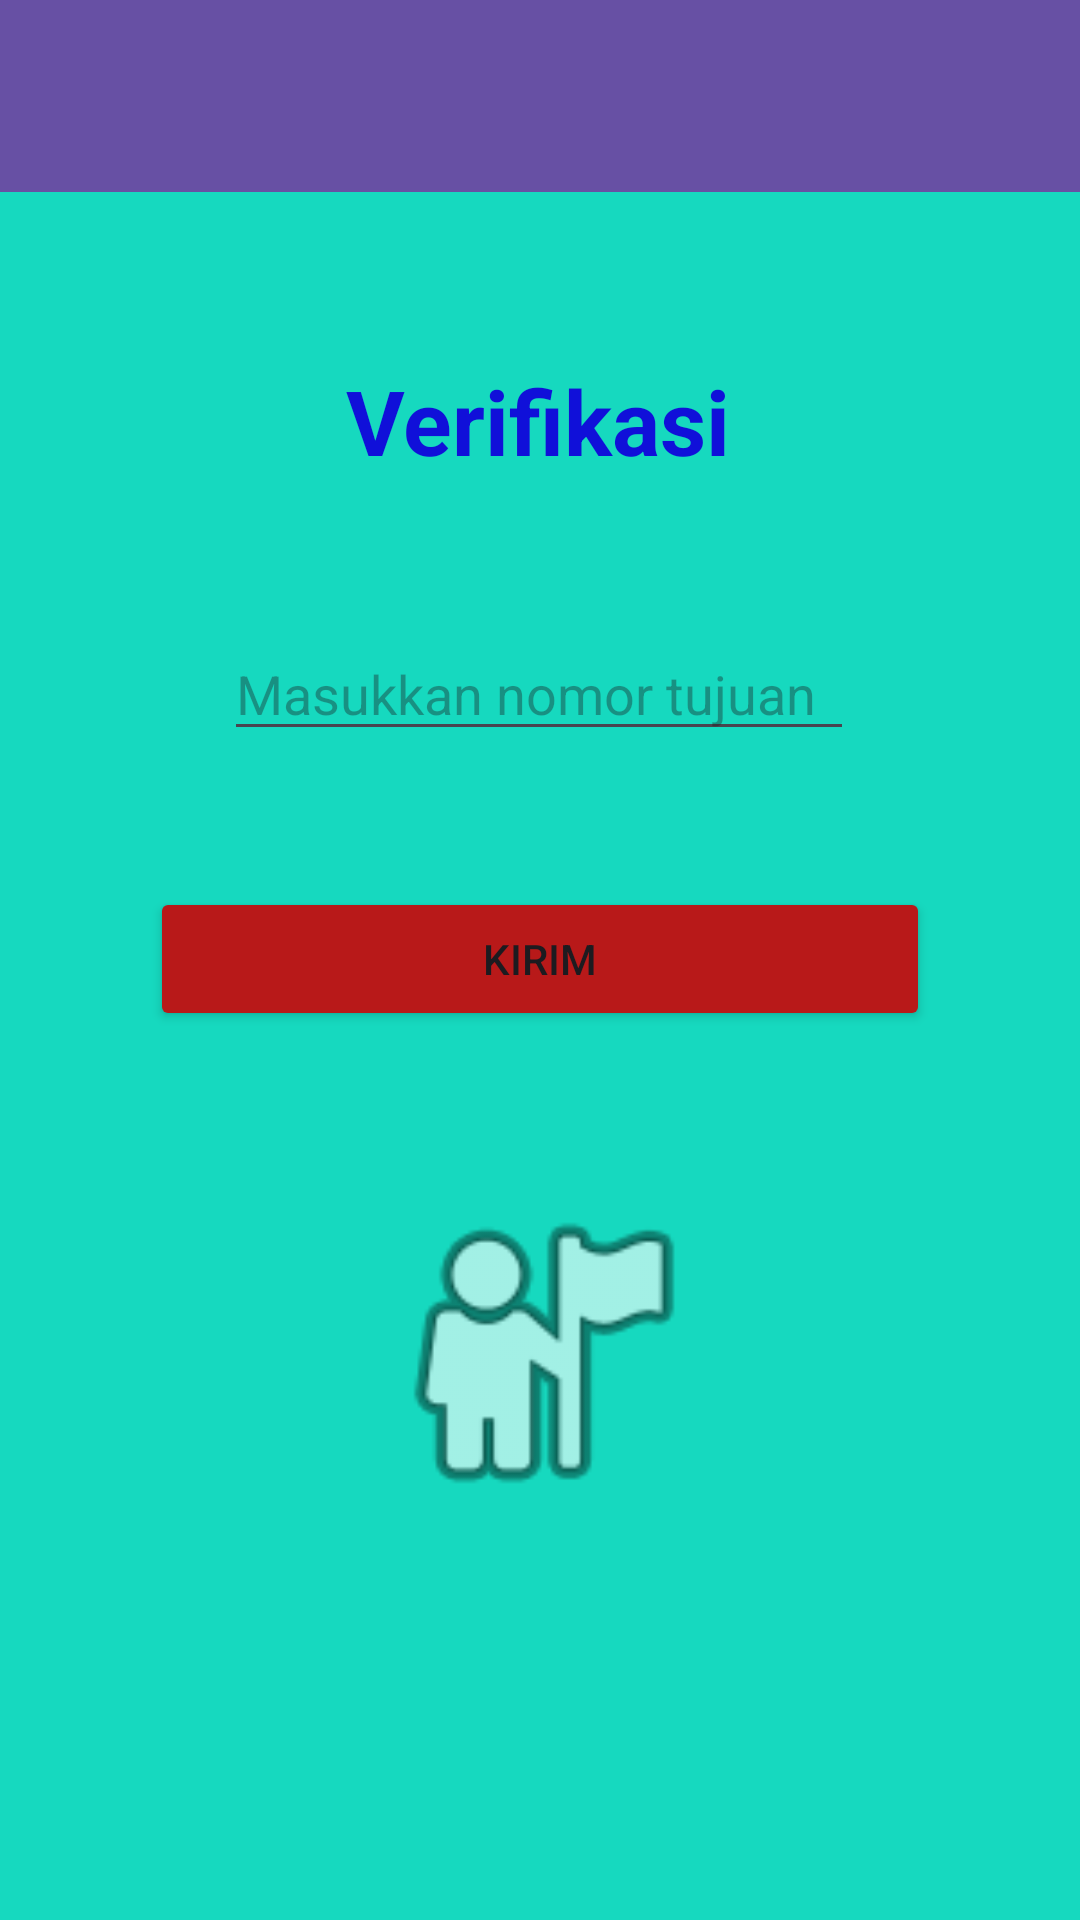

Screen size 1080w x 1920h. Icon name, then its box in pixels as [left=x1, top=y1, right=x2, bottom=y2]:
myplaces: [left=414, top=1224, right=674, bottom=1482]
